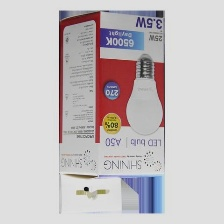carton: (55, 10, 172, 183)
